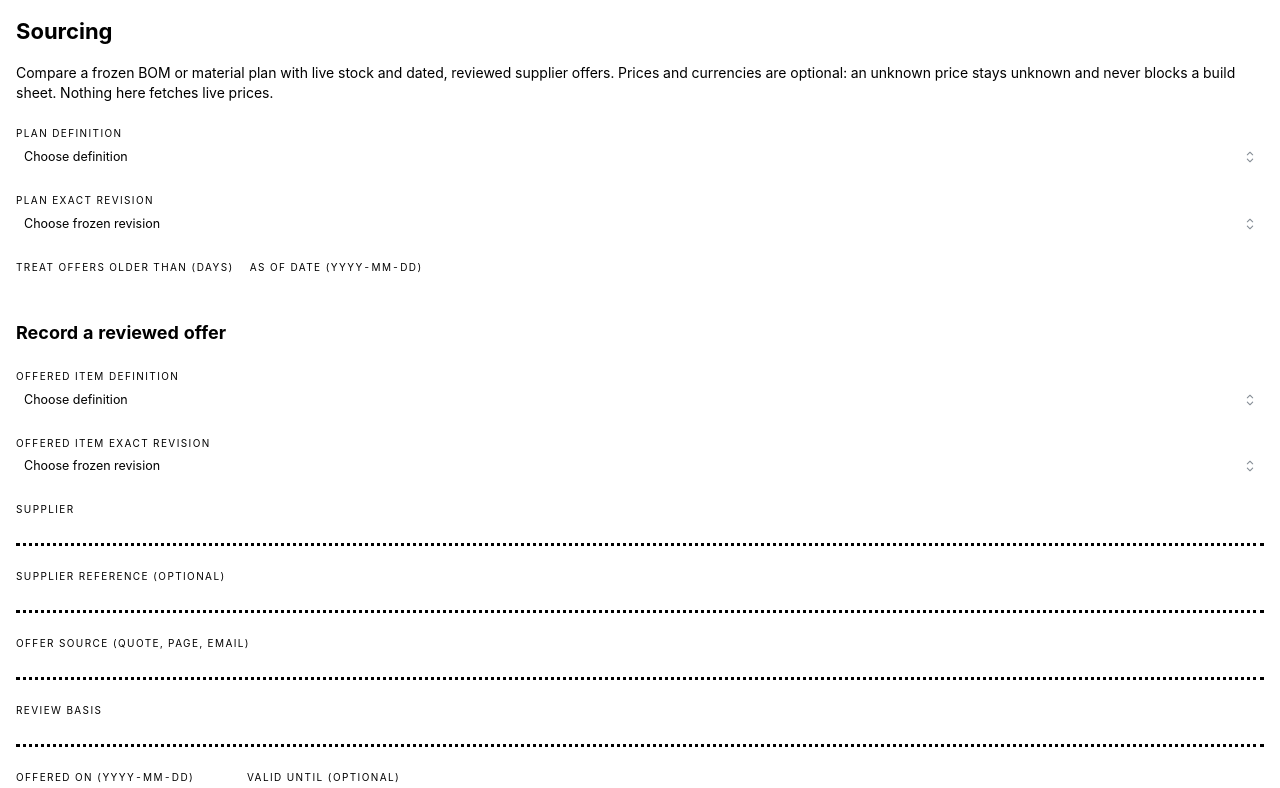
it: shows unknown stock, shortfall, price and freshness as unknown, never zero
Select "Plan (bom_plan)" in the dropdown labelled "Plan definition": (640, 157) [16,144,1264,170]
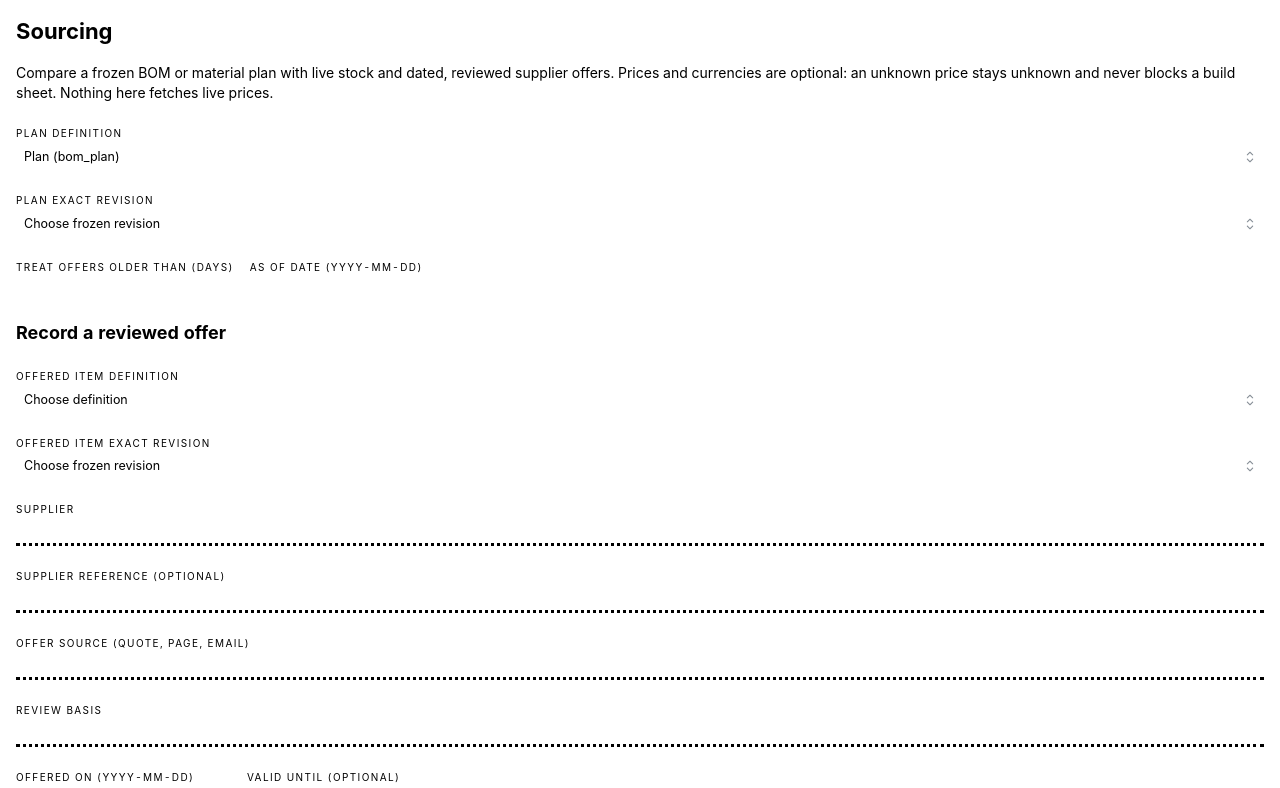
Select "Plan · r1" in the dropdown labelled "Plan exact revision": (640, 224) [16,211,1264,237]
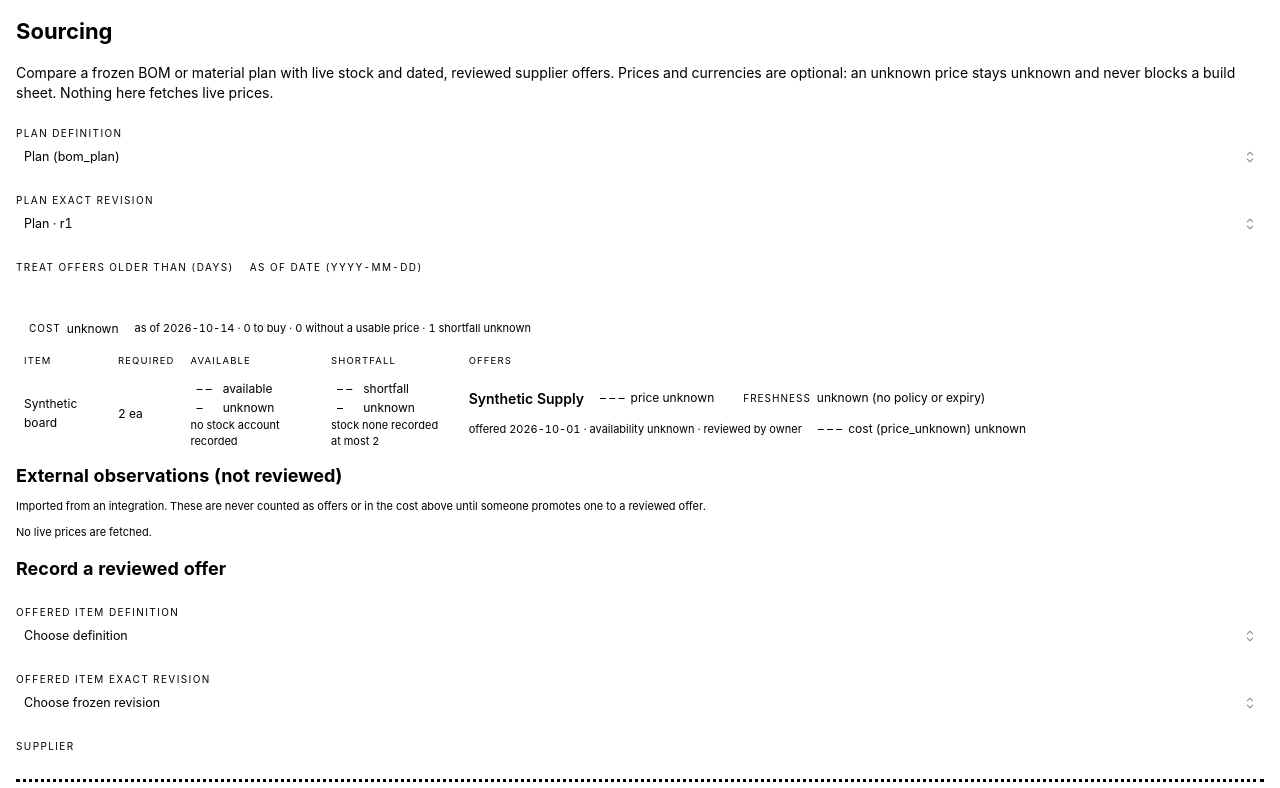
Result: the text "Synthetic board" is shown at [16,375,110,453]
Result: the text "no stock account recorded" is shown at [190,418,280,448]
Result: the text "at most 2" is shown at [331,434,380,448]
